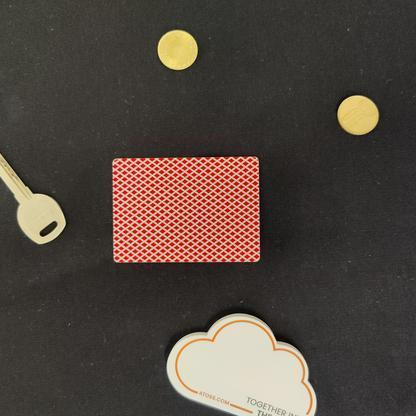card: (95, 145, 274, 275)
